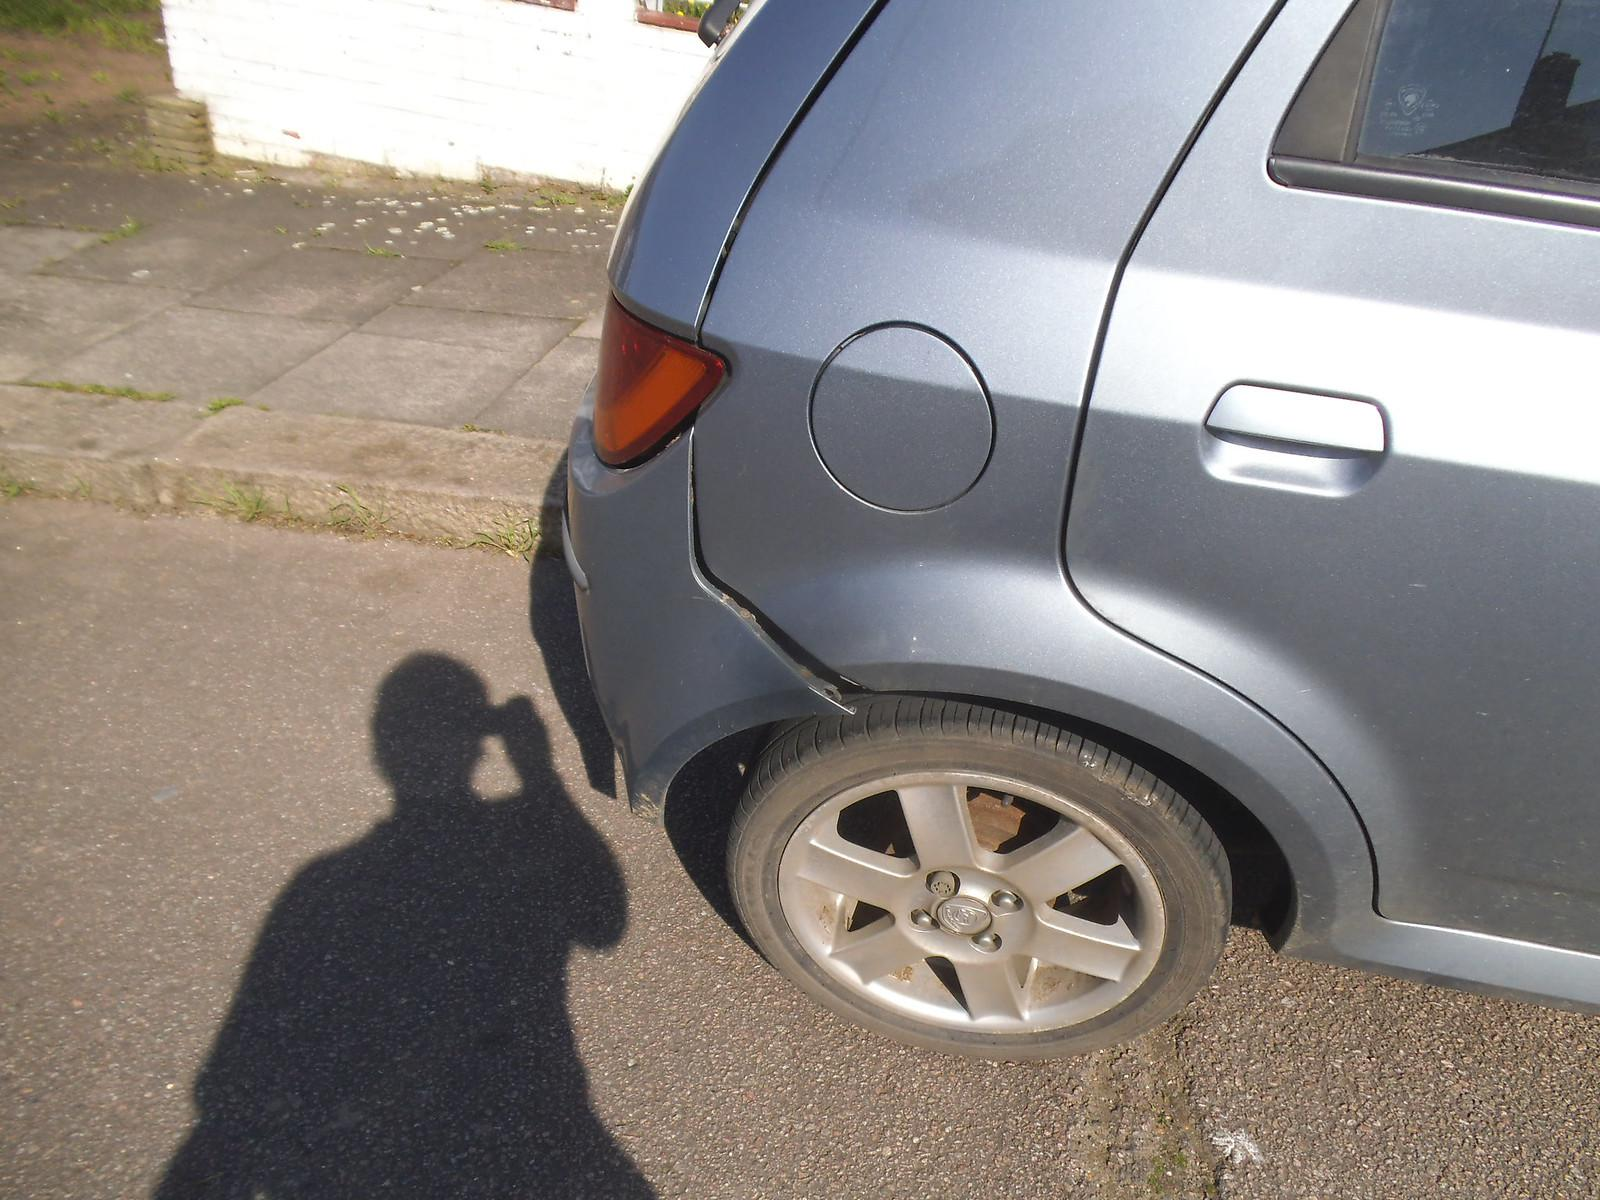rear-bumper-dent: (511, 420, 797, 763)
